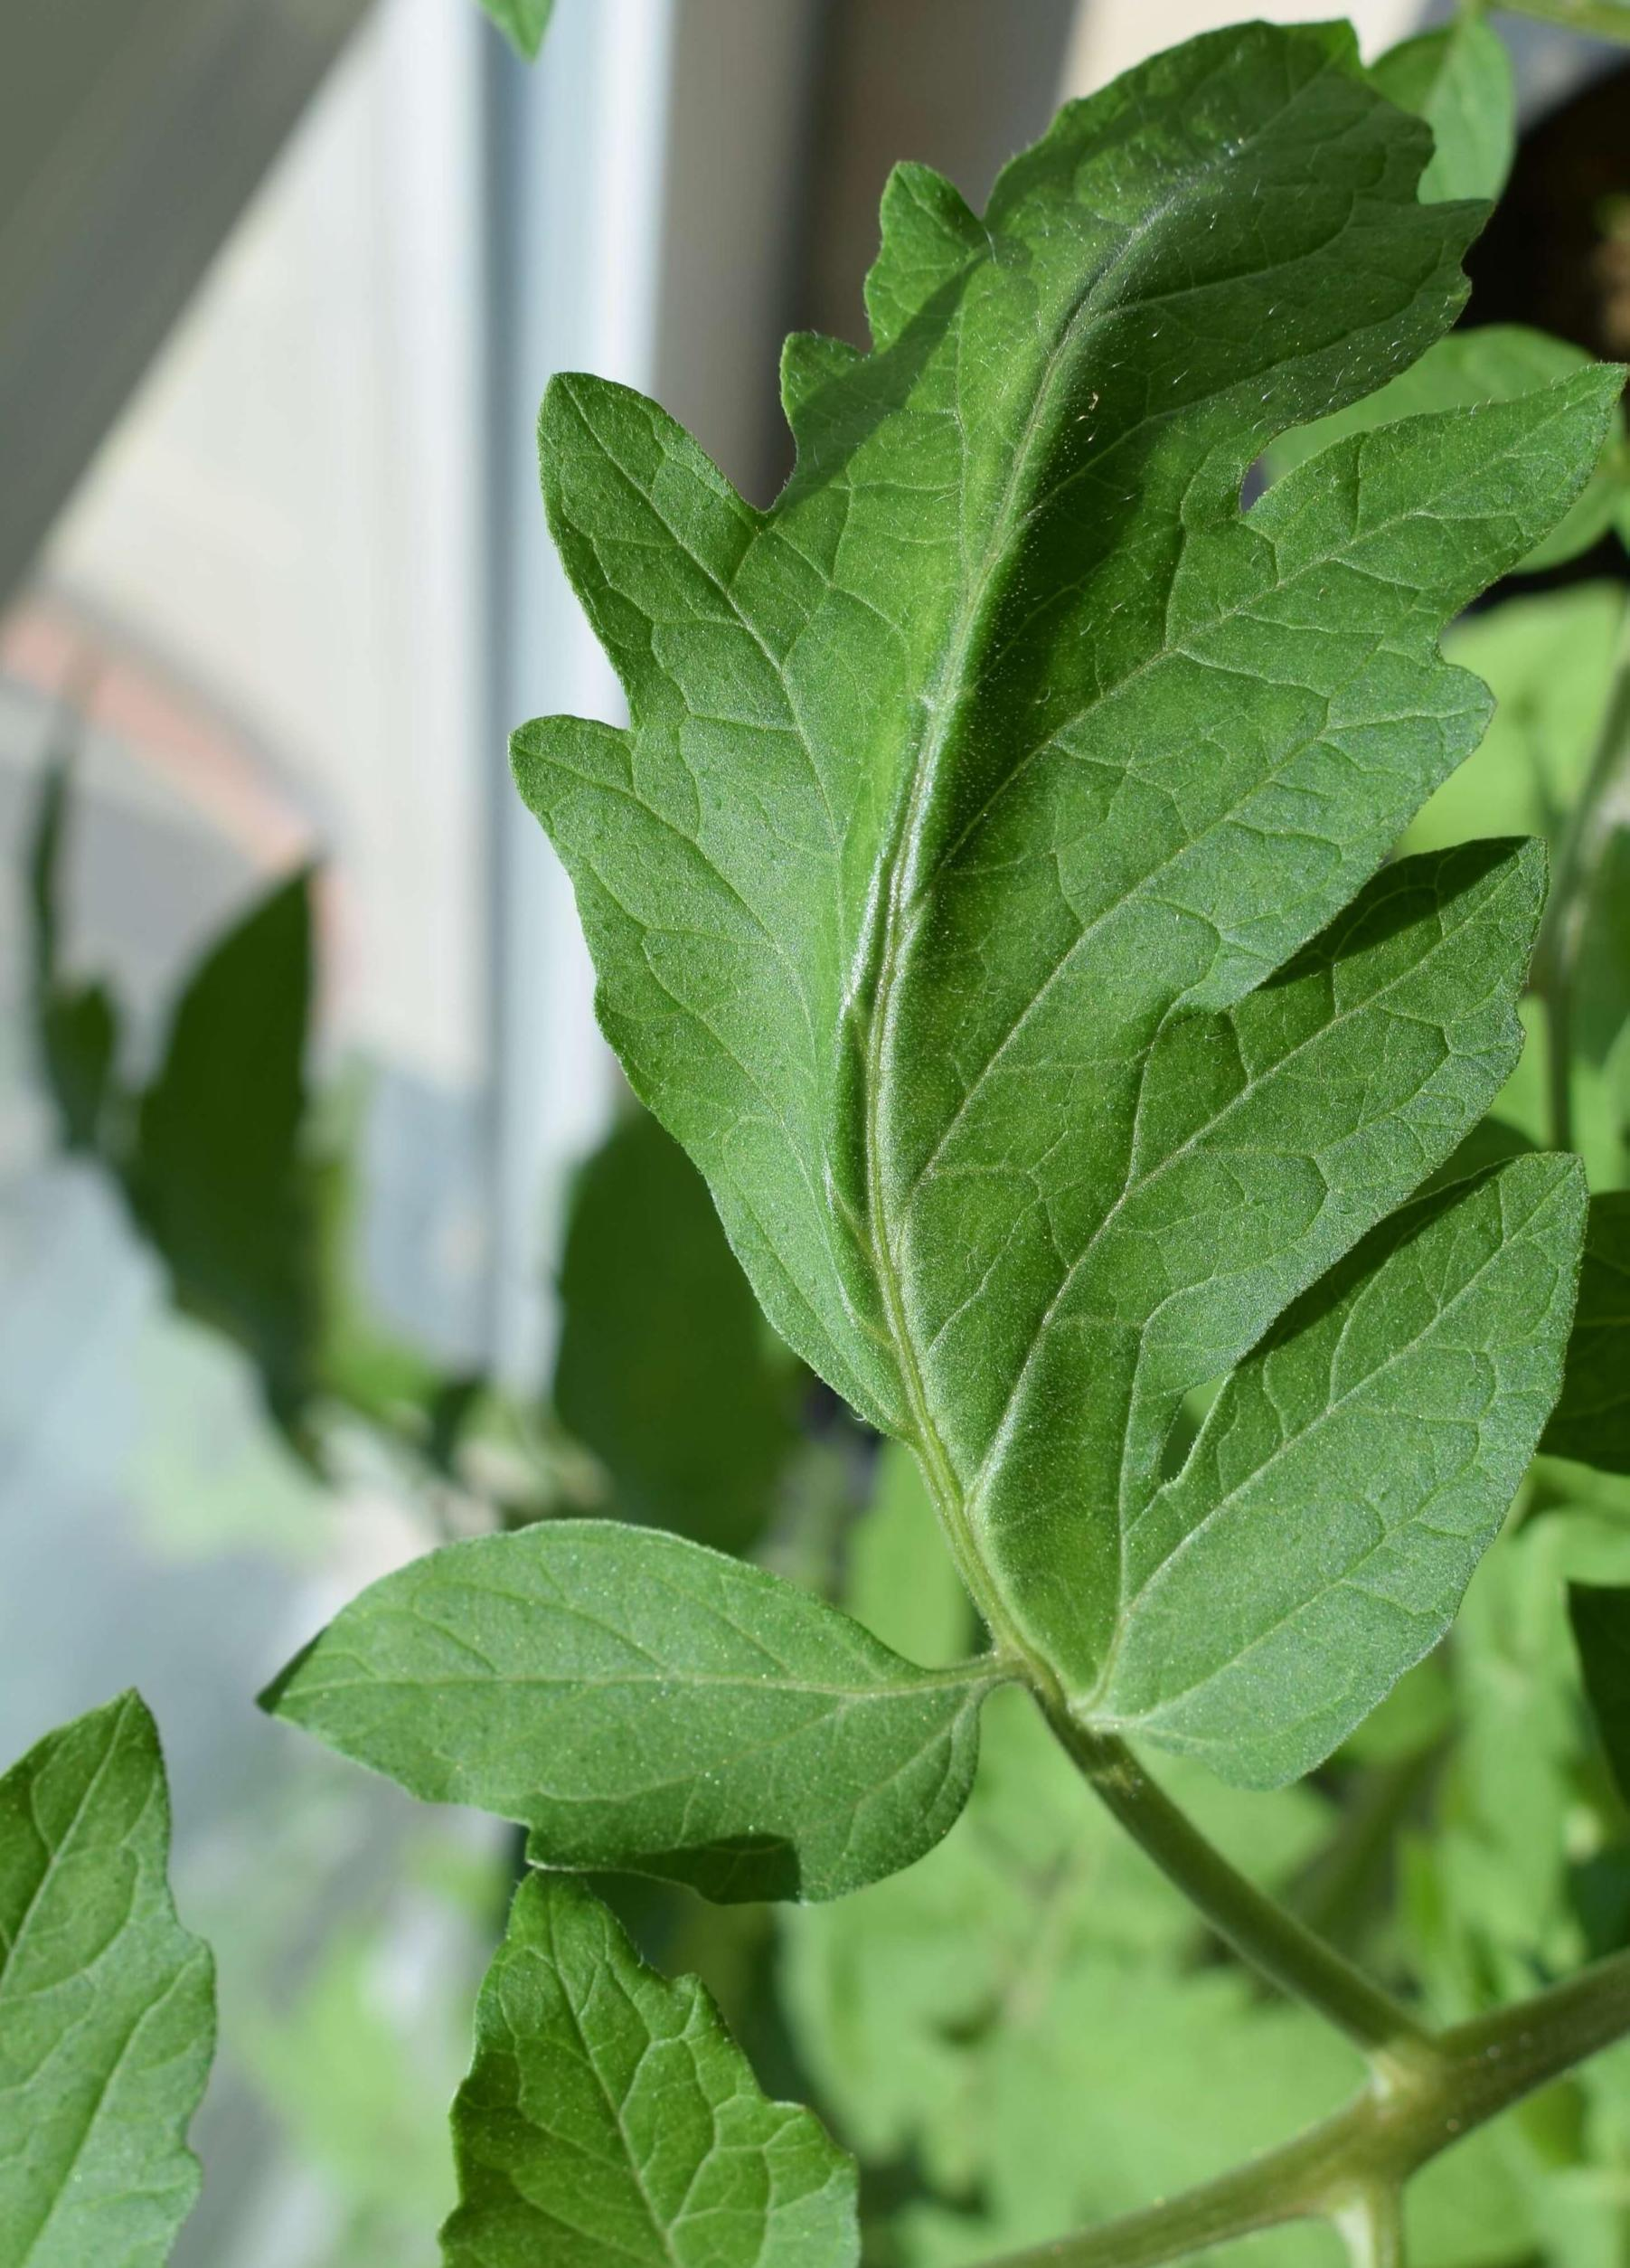Tomato leaf: (590, 14, 1630, 1854), (299, 1472, 1047, 1919), (424, 1822, 972, 2268), (0, 1567, 275, 2268)
